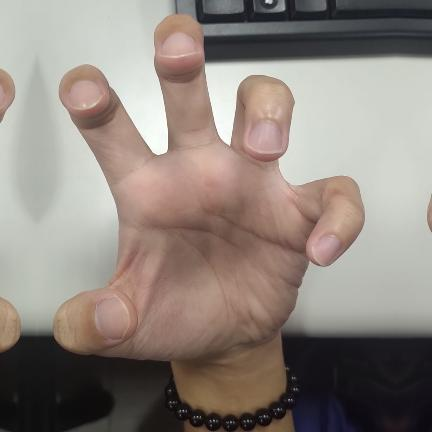Nail: (93, 296, 129, 341), (247, 120, 281, 153), (68, 80, 103, 109), (160, 32, 197, 58), (311, 235, 340, 266), (0, 85, 4, 107)
